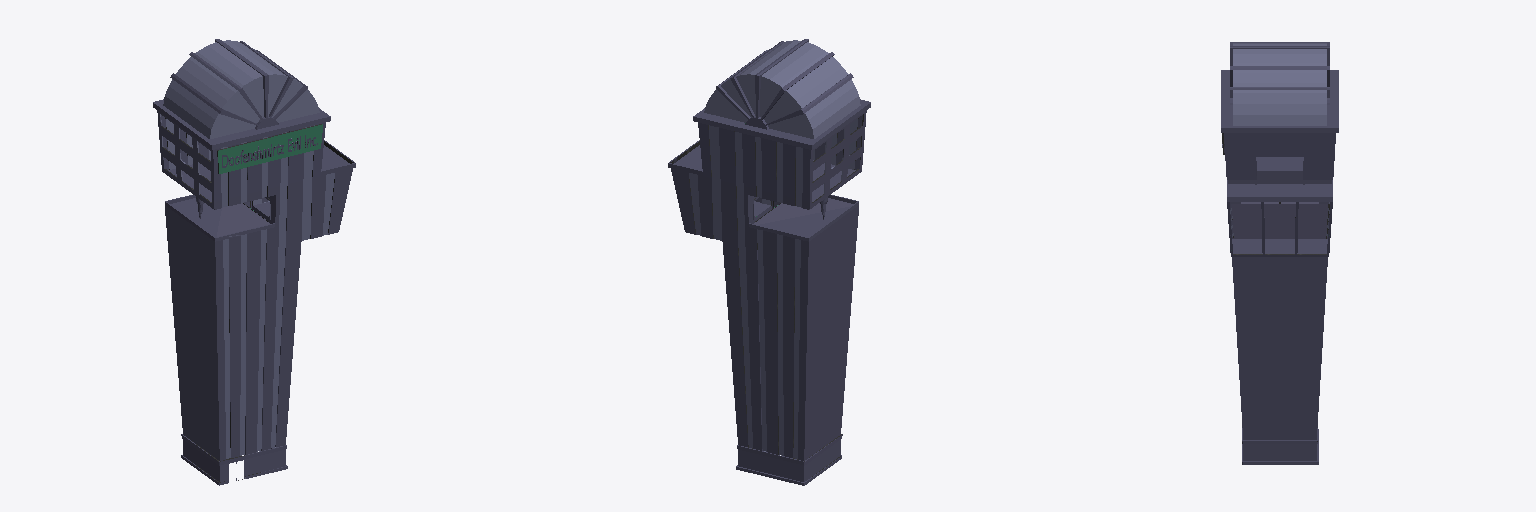
The picture shows the model from 3 angles: view 1: azimuth 30°, elevation 25°; view 2: azimuth 150°, elevation 25°; view 3: azimuth 270°, elevation 25°; orthographic projection.
Visible parts, largest first — view 1: Text; view 2: Text; view 3: Text.
Boxes of the visible parts, box(x1,y1,x2,y2) form: Text: box(153, 39, 355, 485); Text: box(668, 39, 870, 485); Text: box(1221, 42, 1338, 464).
Bounding box in the file's own units: 4.74 × 12.41 × 3.29.
Materials: 1 (1 with a texture image).